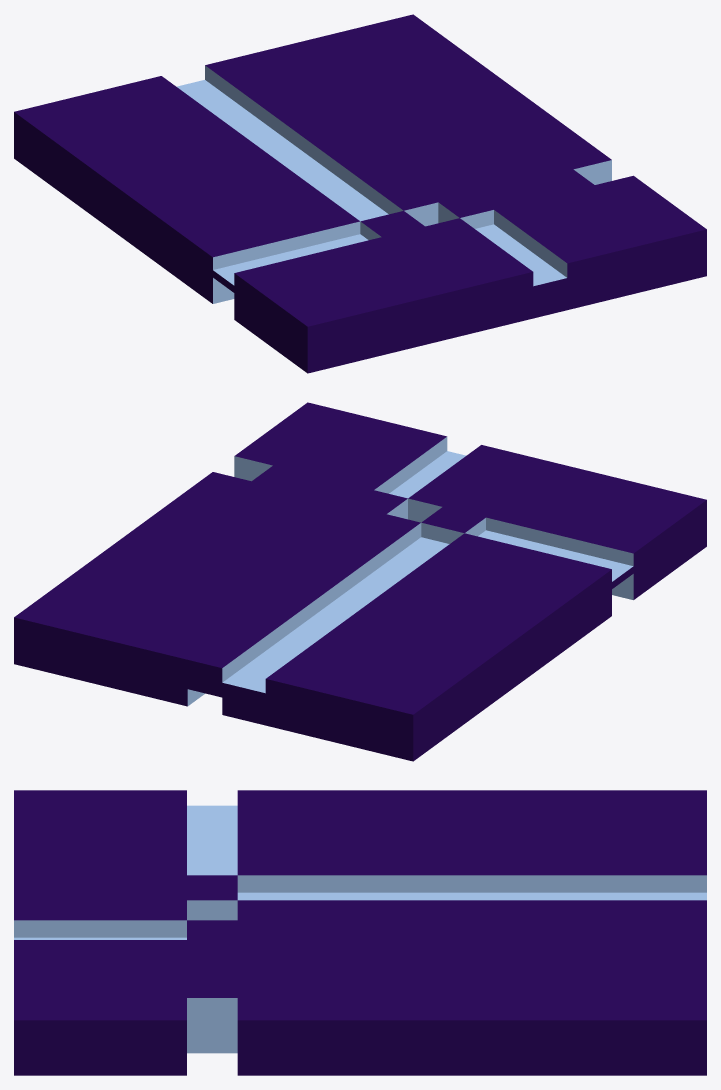
File: Platform12.fbx
The picture shows the model from 3 angles, top to bottom: view 1: azimuth 30°, elevation 25°; view 2: azimuth 150°, elevation 25°; view 3: azimuth 270°, elevation 25°; orthographic projection. The views are drawn at different scales.
Parts seen in each view (by area): view 1: Box074; view 2: Box074; view 3: Box074.
Boxes of the visible parts, box(x1,y1,x2,y2) form: Box074: box(14, 14, 706, 373); Box074: box(14, 402, 706, 761); Box074: box(14, 790, 706, 1075).
Bounding box in the file's own units: 159 × 17.78 × 202.
